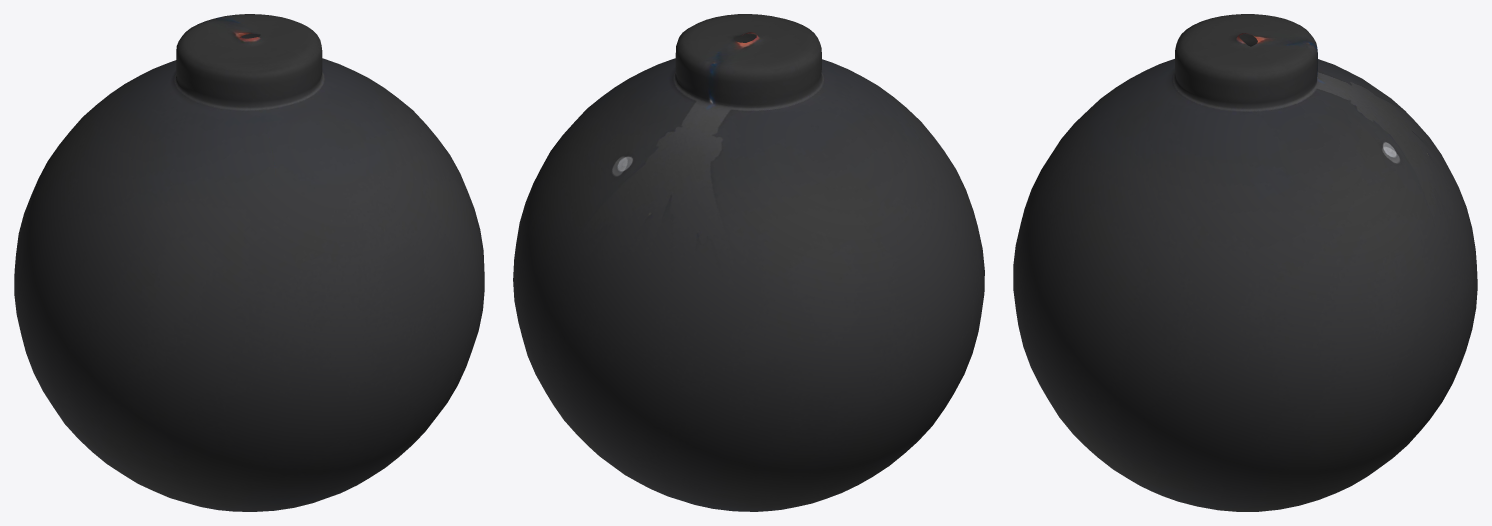
Rendered from Edited Cartoon Bomb.fbx.
3 renders of one model, left to right at view 1: azimuth 30°, elevation 25°; view 2: azimuth 150°, elevation 25°; view 3: azimuth 270°, elevation 25°, orthographic.
Visible parts, largest first — view 1: tripo_node_72f57155; view 2: tripo_node_72f57155; view 3: tripo_node_72f57155.
Part boxes in pixels (box(x1,y1,x2,y2)): tripo_node_72f57155: box(14, 14, 484, 511); tripo_node_72f57155: box(513, 14, 984, 511); tripo_node_72f57155: box(1013, 14, 1477, 511).
Size of the model in its own units: 76.64 by 81.12 by 75.08.
